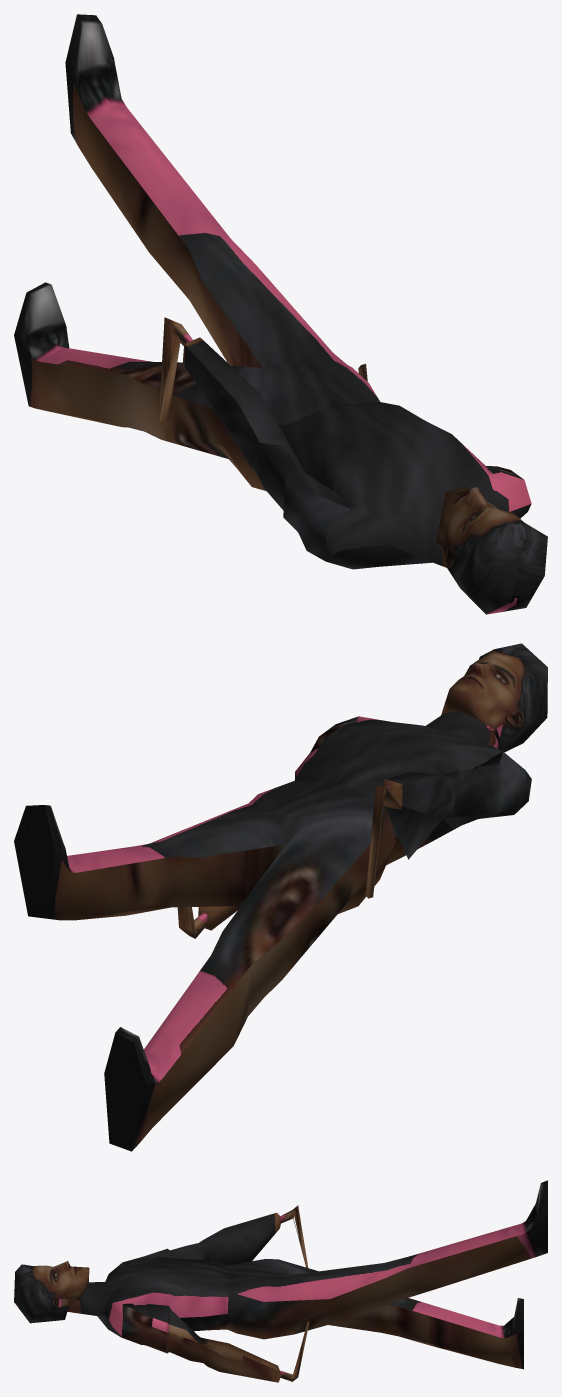
File: npc_raka_walk1.obj
The picture shows the model from 3 angles, top to bottom: view 1: azimuth 30°, elevation 25°; view 2: azimuth 150°, elevation 25°; view 3: azimuth 270°, elevation 25°; orthographic projection. The views are drawn at different scales.
Parts seen in each view (by area): view 1: npc_raka_walk1; view 2: npc_raka_walk1; view 3: npc_raka_walk1.
Part boxes in pixels (x1=…): npc_raka_walk1: x1=14, y1=14, x2=547, y2=614; npc_raka_walk1: x1=14, y1=643, x2=547, y2=1151; npc_raka_walk1: x1=14, y1=1180, x2=547, y2=1382.
Bounding box in the file's own units: 0.4684 × 0.7378 × 1.75.
Materials: 1 (1 with a texture image).
